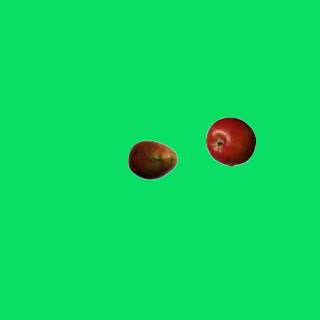Apple Braeburn: (205, 116, 255, 166)
Mango Red: (127, 134, 177, 184)
